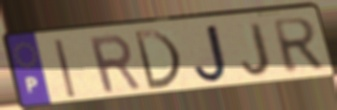D: (131, 29, 184, 92)
I: (52, 38, 78, 100)
J: (191, 22, 230, 86), (240, 20, 273, 78)
R: (86, 32, 145, 96), (269, 15, 328, 76)
